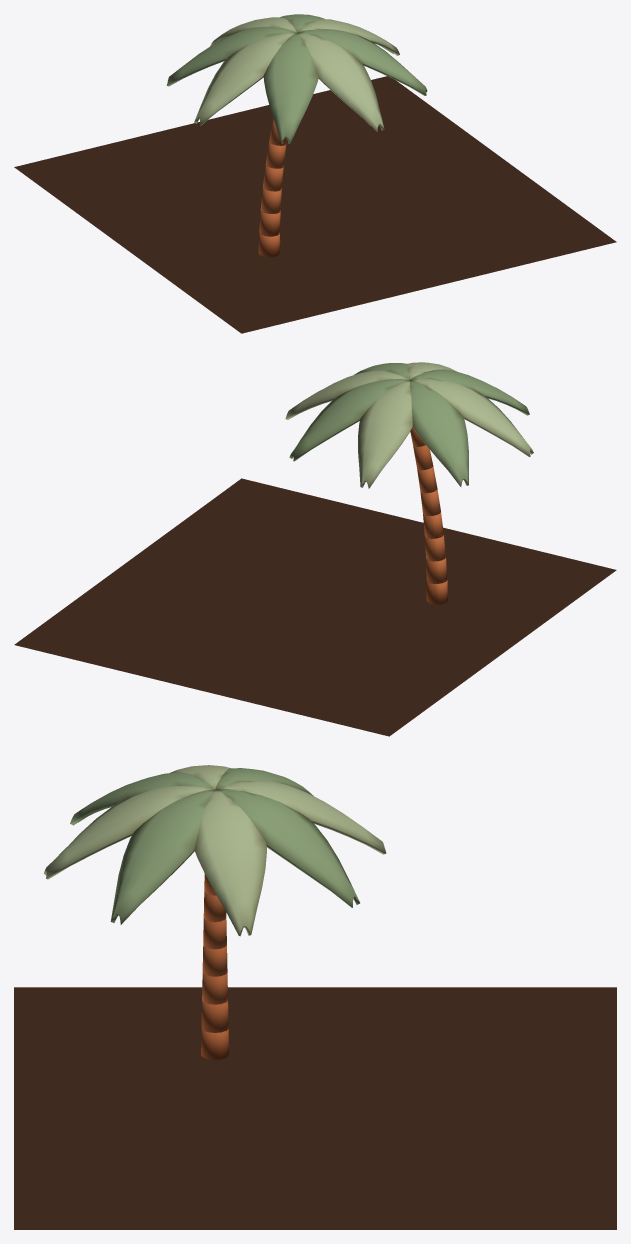
The model's file is prop_palm.glb.
The picture shows the model from 3 angles, top to bottom: view 1: azimuth 30°, elevation 25°; view 2: azimuth 150°, elevation 25°; view 3: azimuth 270°, elevation 25°; orthographic projection. The views are drawn at different scales.
Visible parts, largest first — view 1: baked_shadow, leaf3, leaf4, leaf2, leaf5, leaf1, leaf6, leaf0, trunk1, trunk0, trunk2, trunk3 (+1 smaller); view 2: baked_shadow, leaf0, leaf1, leaf7, leaf2, leaf6, leaf3; view 3: baked_shadow, leaf6, leaf5, leaf7, leaf4, leaf0, leaf3, leaf1, trunk1, trunk0, trunk2, trunk3 (+2 smaller).
Part boxes in pixels (x1,y1,x2,y2): baked_shadow: (14,76,616,333); leaf3: (263,33,318,143); leaf4: (297,32,384,131); leaf2: (194,32,296,125); leaf5: (298,29,427,95); leaf1: (166,26,295,86); leaf6: (297,19,399,55); leaf0: (210,17,296,46); trunk1: (259,210,280,236); trunk0: (258,233,280,257); trunk2: (260,188,281,213); trunk3: (263,163,283,191); baked_shadow: (14,478,616,736); leaf0: (358,380,412,488); leaf1: (409,380,468,486); leaf7: (289,379,409,461); leaf2: (410,378,533,456); leaf6: (285,370,408,419); leaf3: (410,369,529,415); baked_shadow: (14,987,616,1229); leaf6: (194,789,266,936); leaf5: (110,789,214,924); leaf7: (216,789,359,907); leaf4: (44,785,214,879); leaf0: (216,780,386,854); leaf3: (70,772,214,825); leaf1: (215,768,313,795); trunk1: (201,1001,228,1032); trunk0: (201,1029,228,1060); trunk2: (202,973,227,1004); trunk3: (202,945,227,976).
Size of the model in its own units: 6.76 by 3.94 by 7.1.
8 materials, 1 textured.
